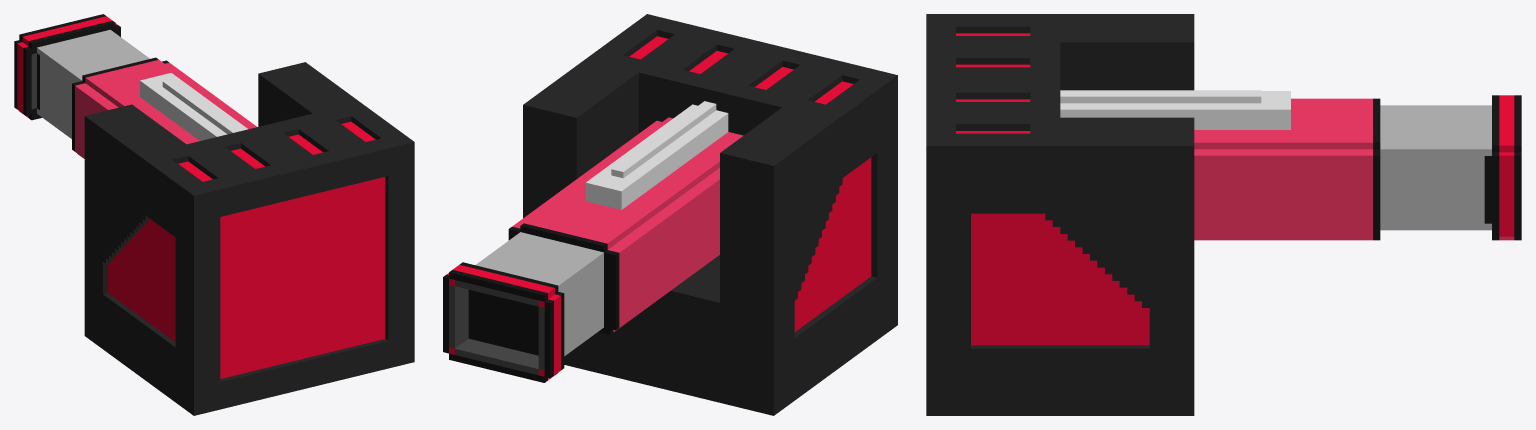
File: CimaGuardiaoRed.obj
3 renders of one model, left to right at view 1: azimuth 30°, elevation 25°; view 2: azimuth 150°, elevation 25°; view 3: azimuth 270°, elevation 25°, orthographic. The views are drawn at different scales.
Size of the model in its own units: 4.2 by 4 by 8.
Materials: 1 (1 with a texture image).
